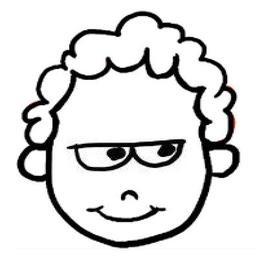ear: (11, 145, 50, 191), (204, 141, 245, 180)
eye: (132, 136, 197, 174), (72, 137, 132, 171)
mouth: (82, 200, 170, 225)
nose: (116, 188, 145, 203)
